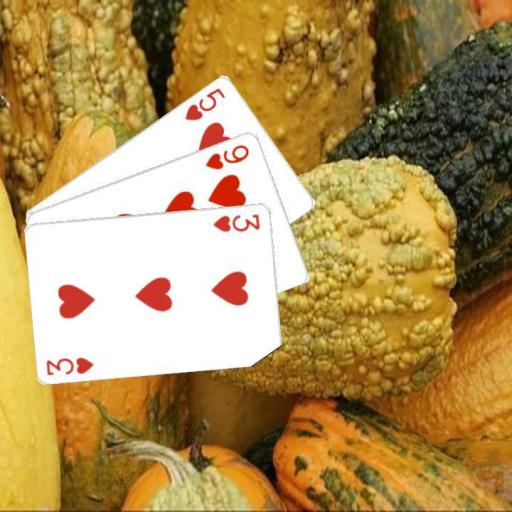3H: (44, 353, 96, 377), (211, 211, 262, 234)
5H: (182, 84, 227, 122)
9H: (202, 141, 251, 171)
